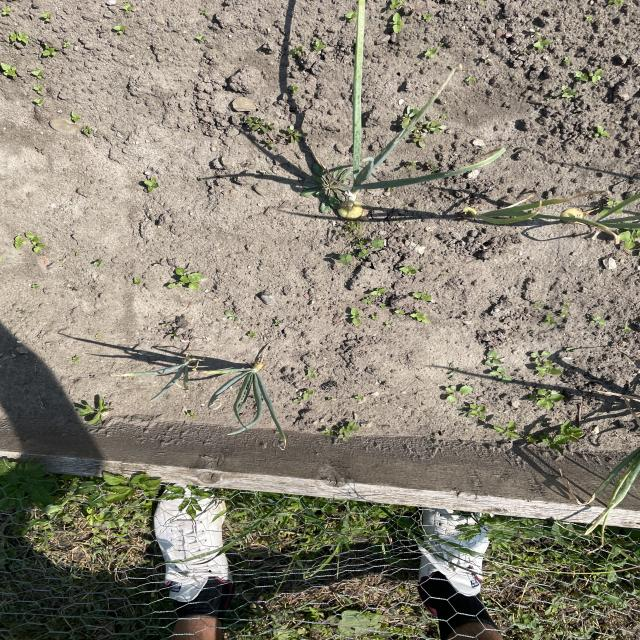Onion: (338, 9, 484, 221), (193, 360, 284, 430), (464, 179, 585, 230), (557, 192, 640, 239), (137, 353, 198, 404)
weed: (0, 11, 67, 97), (348, 282, 435, 332), (324, 220, 401, 270), (230, 114, 318, 152), (300, 158, 346, 211), (466, 347, 522, 388), (61, 397, 116, 432), (540, 422, 590, 455), (3, 230, 52, 260), (165, 263, 212, 294), (527, 346, 562, 383), (327, 418, 366, 448), (435, 378, 472, 409), (133, 173, 178, 198), (466, 396, 506, 424), (527, 387, 570, 411), (493, 424, 528, 448)
